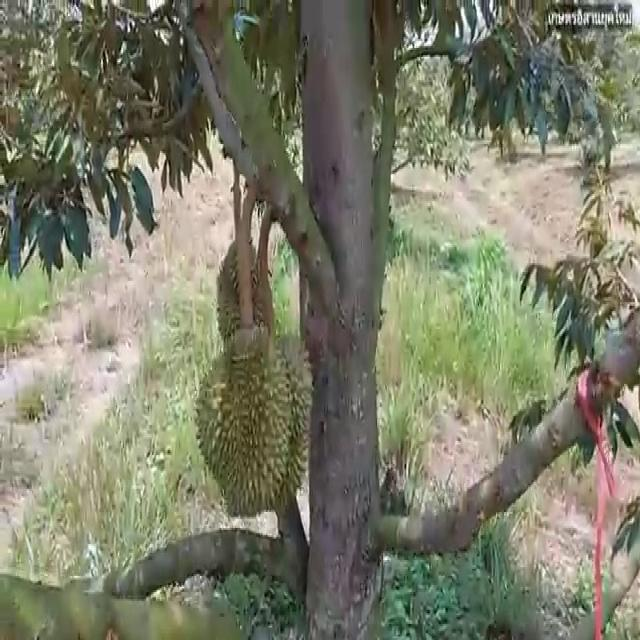durian: (193, 320, 292, 529), (212, 229, 271, 384)
